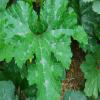Squash Powdery mildew leaf: (2, 0, 91, 99)
